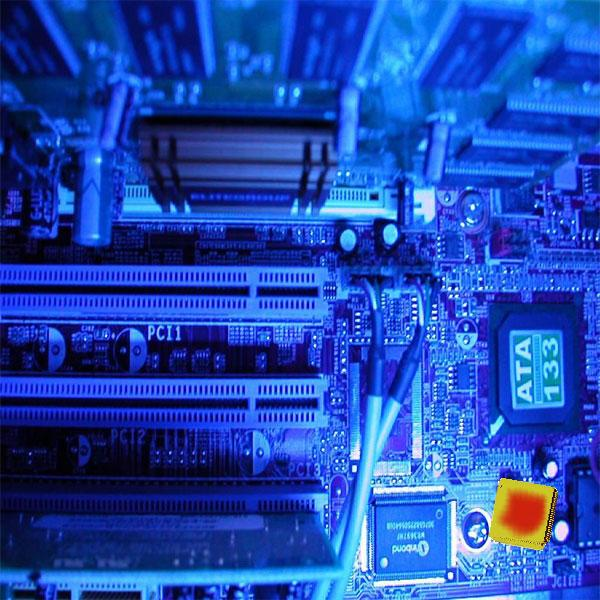componente_T: (484, 472, 561, 556)
